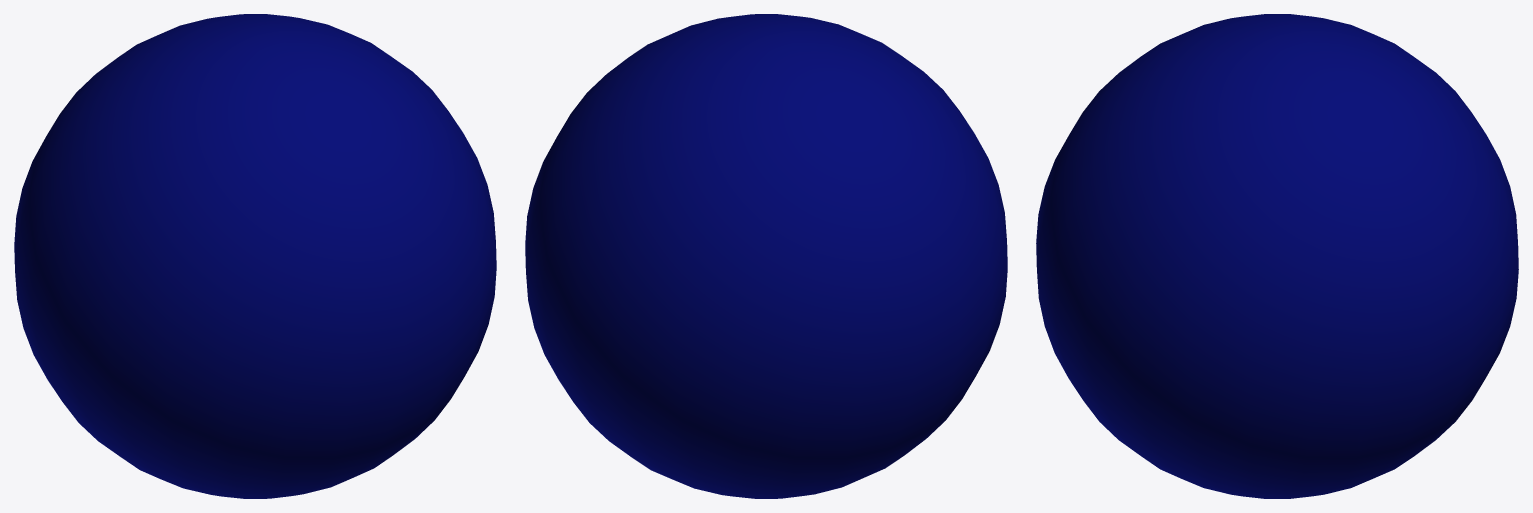
3 renders of one model, left to right at view 1: azimuth 30°, elevation 25°; view 2: azimuth 150°, elevation 25°; view 3: azimuth 270°, elevation 25°, orthographic.
Parts seen in each view (by area): view 1: node_id30; view 2: node_id30; view 3: node_id30.
Part boxes in pixels (<box>): node_id30: <box>14,14,496,498</box>; node_id30: <box>525,14,1007,498</box>; node_id30: <box>1036,14,1518,498</box>.
Bounding box in the file's own units: 0.5084 × 0.512 × 0.5084.
1 material, 1 textured.
